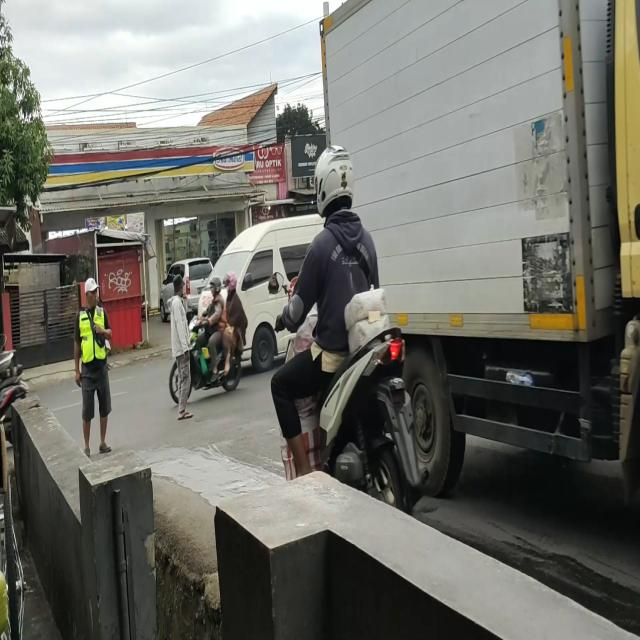helmet: (316, 144, 356, 210), (225, 272, 238, 298), (208, 278, 222, 300)
